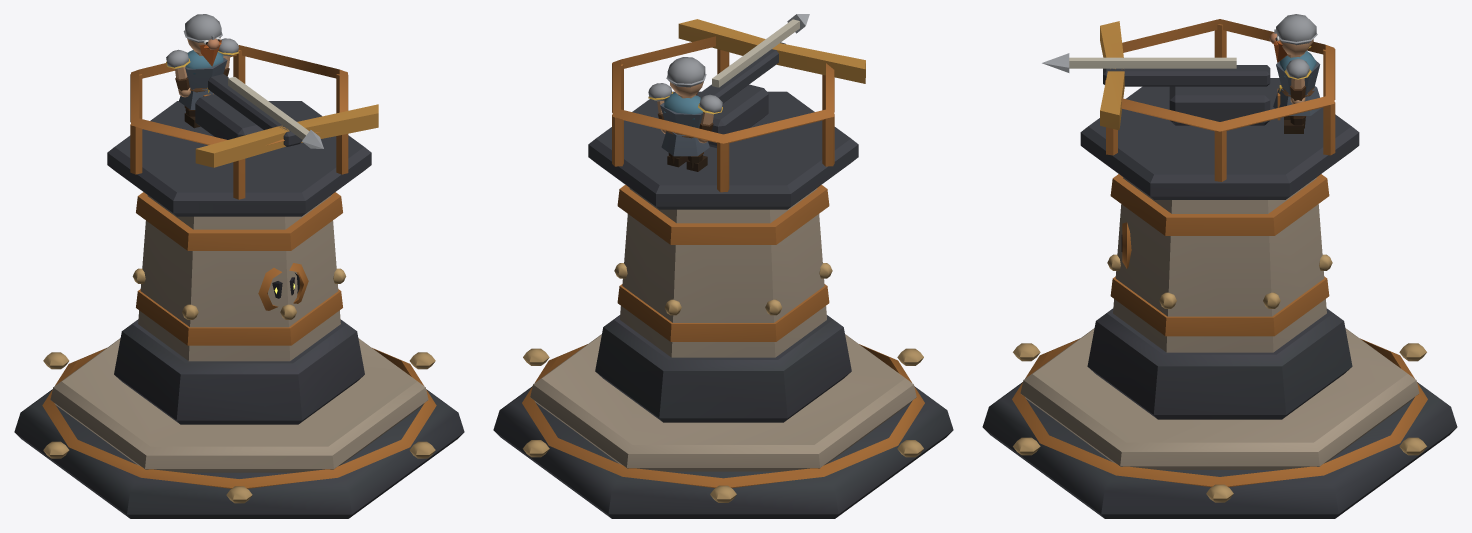
Rendered from nains_6.glb.
The picture shows the model from 3 angles, left to right: view 1: azimuth 30°, elevation 25°; view 2: azimuth 150°, elevation 25°; view 3: azimuth 270°, elevation 25°; orthographic projection. The views are drawn at different scales.
Visible parts, largest first — view 1: nains_6_peint, Tourelle_peint, Buste_peint, Crane_peint, BrasG_peint; view 2: nains_6_peint, Tourelle_peint, Buste_peint, Crane_peint, BrasG_peint; view 3: nains_6_peint, Tourelle_peint, Crane_peint, Buste_peint, BrasD_peint.
Part boxes in pixels (left/top/right/bottom): nains_6_peint: left=14, top=45, right=464, bottom=518; Tourelle_peint: left=195, top=74, right=378, bottom=167; Buste_peint: left=179, top=50, right=227, bottom=109; Crane_peint: left=183, top=14, right=222, bottom=66; BrasG_peint: left=166, top=49, right=190, bottom=97; nains_6_peint: left=493, top=36, right=953, bottom=518; Tourelle_peint: left=678, top=14, right=865, bottom=147; Buste_peint: left=660, top=93, right=709, bottom=156; Crane_peint: left=666, top=57, right=706, bottom=96; BrasG_peint: left=697, top=94, right=722, bottom=143; nains_6_peint: left=982, top=19, right=1457, bottom=518; Tourelle_peint: left=1042, top=21, right=1270, bottom=130; Crane_peint: left=1269, top=14, right=1317, bottom=62; Buste_peint: left=1273, top=51, right=1320, bottom=120; BrasD_peint: left=1284, top=58, right=1311, bottom=104.
Size of the model in its own units: 0.8433 by 0.8275 by 0.8517.
